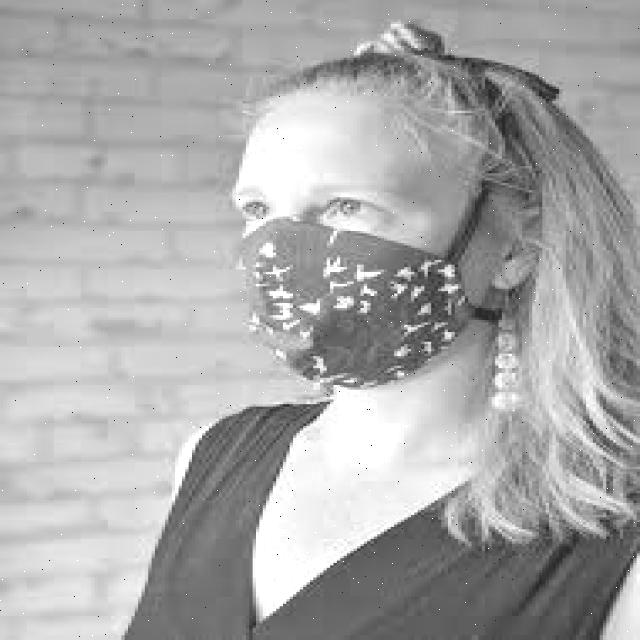fake: (237, 219, 470, 424)
real: (225, 94, 494, 405)
